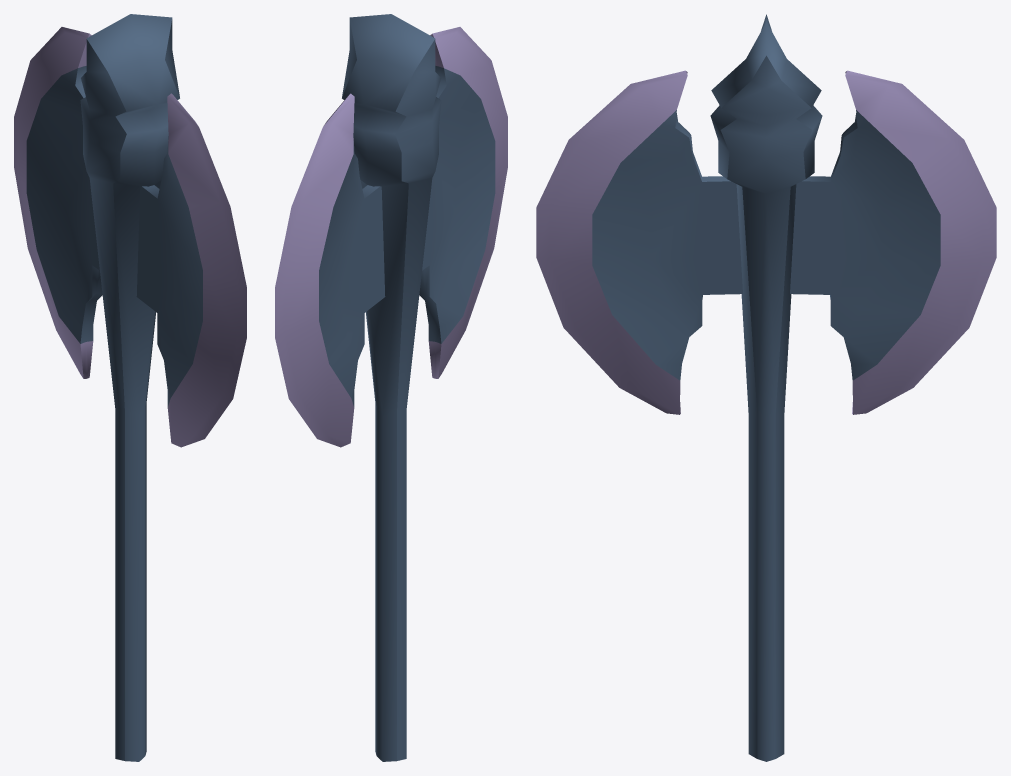
Rendered from Poleaxe.fbx.
The picture shows the model from 3 angles, left to right: view 1: azimuth 30°, elevation 25°; view 2: azimuth 150°, elevation 25°; view 3: azimuth 270°, elevation 25°; orthographic projection.
Visible parts, largest first — view 1: Poleaxe; view 2: Poleaxe; view 3: Poleaxe.
Part boxes in pixels (<box>): Poleaxe: <box>14,14,246,761</box>; Poleaxe: <box>275,14,507,761</box>; Poleaxe: <box>536,14,996,761</box>.
Size of the model in its own units: 0.304 by 2.5 by 1.43.
